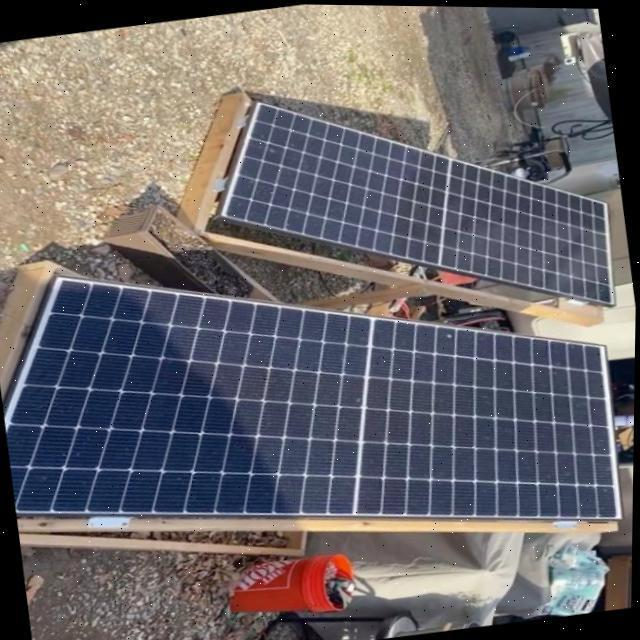Normal Solar Panel: (0, 202, 631, 598), (202, 54, 620, 354)
